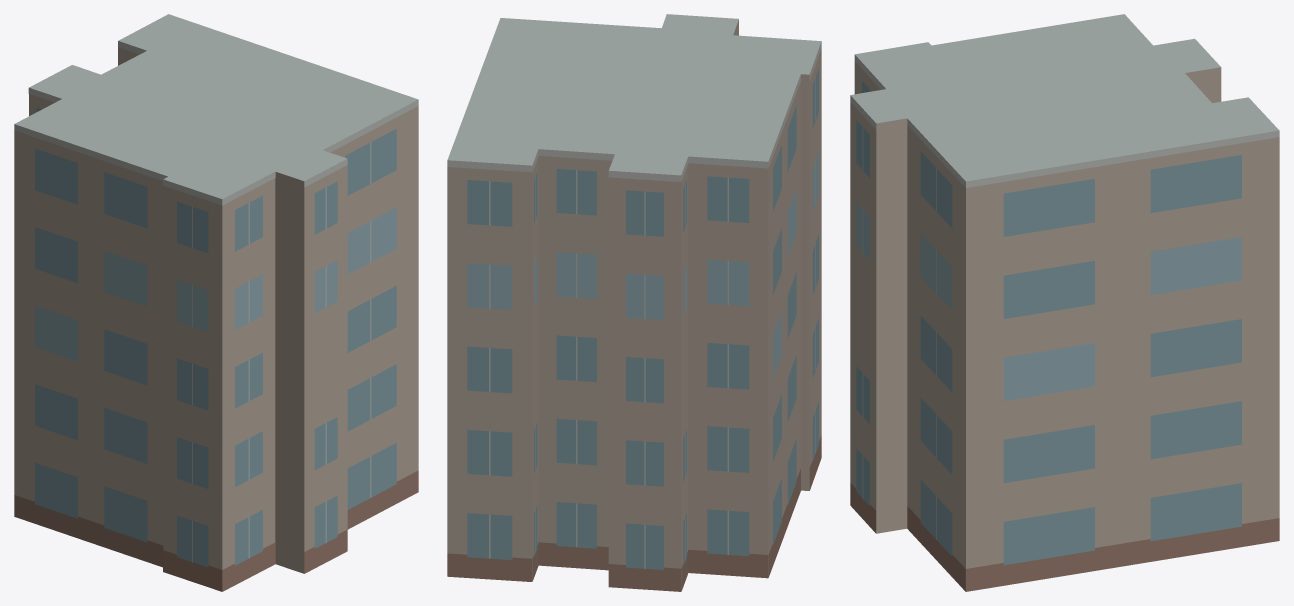
The model's file is survey-upis-32616633.glb.
3 renders of one model, left to right at view 1: azimuth 30°, elevation 25°; view 2: azimuth 150°, elevation 25°; view 3: azimuth 270°, elevation 25°, orthographic. The views are drawn at different scales.
Visible parts, largest first — view 1: survey-upis-32616633.tmp; view 2: survey-upis-32616633.tmp; view 3: survey-upis-32616633.tmp.
Boxes of the visible parts, x1,y1,x2,y2 form: survey-upis-32616633.tmp: (14, 14, 418, 591); survey-upis-32616633.tmp: (447, 14, 821, 591); survey-upis-32616633.tmp: (850, 14, 1279, 591).
Bounding box in the file's own units: 13.36 × 15.25 × 14.47.
